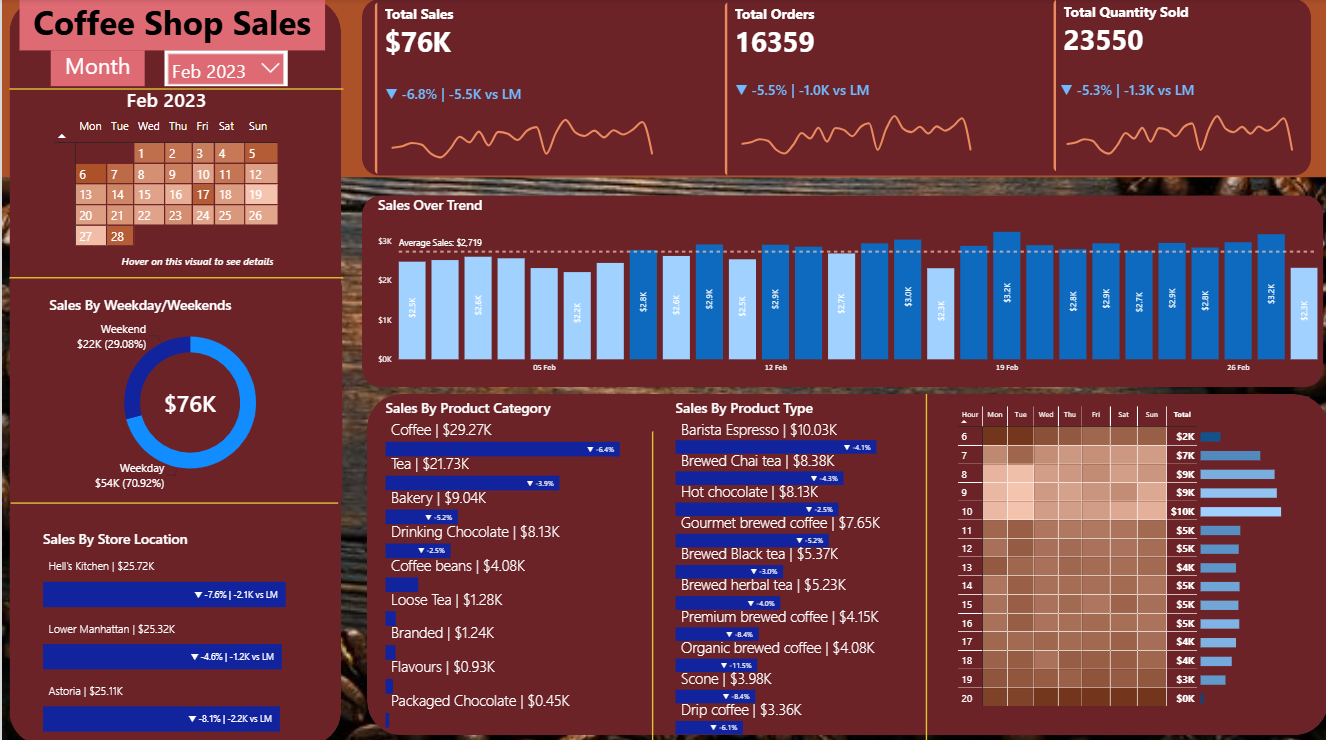

Layout of this report page (visuals, bound fields, positions):
{"tool":"powerbi","page":{"name":"Page 1","canvas":[1920,1080],"ordinal":0},"visuals":[{"type":"shape","box":[0,0,1920,258.5],"z":0},{"type":"shape","box":[43.1,56.9,395.4,1023.1],"z":1000},{"type":"shape","box":[461.2,81.2,1441.2,257.5],"z":2000},{"type":"textbox","box":[24.6,0,370.8,56.9],"z":3000},{"type":"cardVisual","fields":{"Data":["coffee_shop_sales_db coffee shop sales.Total Sales"]},"box":[470.5,81.4,452.8,251.5],"z":4000,"group":"g1"},{"type":"cardVisual","fields":{"Data":["coffee_shop_sales_db coffee shop sales.Total Orders"]},"box":[957.3,81.4,452.4,253.4],"z":4000,"group":"g2"},{"type":"cardVisual","fields":{"Data":["coffee_shop_sales_db coffee shop sales.Total Quantity Sold"]},"box":[1449.5,81.4,452.8,251.5],"z":4000,"group":"g3"},{"type":"slicer","fields":{"Values":["Date Table.Month Year"]},"box":[81.5,81.5,313.8,103.1],"z":4000},{"type":"group","id":"g1","title":"Group 1","box":[465.1,81.4,457.8,253.4],"z":5000},{"type":"group","id":"g2","title":"Group 1","box":[956.7,81.4,453,253.4],"z":6000},{"type":"lineChart","fields":{"Category":["Date Table.Date.Variation.Date Hierarchy.Year","Date Table.Date.Variation.Date Hierarchy.Quarter","Date Table.Date.Variation.Date Hierarchy.Month","Date Table.Date.Variation.Date Hierarchy.Day"],"Y":["coffee_shop_sales_db coffee shop sales.Total Sales"]},"box":[956.7,180.1,427.1,148.4],"z":6000,"group":"g2"},{"type":"lineChart","fields":{"Category":["Date Table.Date.Variation.Date Hierarchy.Year","Date Table.Date.Variation.Date Hierarchy.Quarter","Date Table.Date.Variation.Date Hierarchy.Month","Date Table.Date.Variation.Date Hierarchy.Day"],"Y":["coffee_shop_sales_db coffee shop sales.Total Sales"]},"box":[465.1,185.2,427.8,148.6],"z":6000,"group":"g1"},{"type":"lineChart","fields":{"Category":["Date Table.Date.Variation.Date Hierarchy.Year","Date Table.Date.Variation.Date Hierarchy.Quarter","Date Table.Date.Variation.Date Hierarchy.Month","Date Table.Date.Variation.Date Hierarchy.Day"],"Y":["coffee_shop_sales_db coffee shop sales.Total Sales"]},"box":[1444.1,185.2,427.8,148.6],"z":6000,"group":"g3"},{"type":"group","id":"g3","title":"Group 1","box":[1444.1,81.4,457.8,253.4],"z":7000},{"type":"pivotTable","fields":{"Columns":["Date Table.Day Name"],"Values":["Min(Date Table.Day Number)"],"Rows":["Date Table.Week Number"]},"box":[60,232.3,364.6,250.8],"z":8000},{"type":"cardVisual","fields":{"Data":["Min(Date Table.Month Year)"]},"box":[161.5,198.5,158.5,56.9],"z":9000},{"type":"cardVisual","fields":{"Data":["coffee_shop_sales_db coffee shop sales.Foot Step"]},"box":[161.5,435.4,330.8,47.7],"z":10000},{"type":"shape","box":[49.2,458.5,387.7,49.2],"z":11000},{"type":"shape","box":[44.6,180,386.2,49.2],"z":12000},{"type":"donutChart","title":"Sales By Weekday/Weekends","fields":{"Category":["Date Table.Weekday/Weekends"],"Y":["coffee_shop_sales_db coffee shop sales.Total Sales"]},"box":[44.6,503.1,393.8,313.8],"z":13000},{"type":"shape","box":[43.1,781.5,387.7,49.2],"z":14000},{"type":"cardVisual","fields":{"Data":["coffee_shop_sales_db coffee shop sales.Total Sales"]},"box":[182,660,132,88],"z":15000},{"type":"barChart","box":[872.3,624.6,683.1,360],"z":16000}]}

Visuals, with their boxes in screenshot pixels (x1, y1, x2, y2), scaled from the page's 1920x1080 canvas onto the 1326x740 screenshot:
shape: select_region(0, 0, 1325, 177)
shape: select_region(30, 39, 303, 739)
shape: select_region(319, 56, 1314, 232)
textbox: select_region(17, 0, 273, 39)
cardVisual - coffee_shop_sales_db coffee shop sales.Total Sales: select_region(325, 56, 638, 228)
cardVisual - coffee_shop_sales_db coffee shop sales.Total Orders: select_region(661, 56, 974, 229)
cardVisual - coffee_shop_sales_db coffee shop sales.Total Quantity Sold: select_region(1001, 56, 1314, 228)
slicer - Date Table.Month Year: select_region(56, 56, 273, 126)
"Group 1" group: select_region(321, 56, 637, 229)
"Group 1" group: select_region(661, 56, 974, 229)
lineChart - Date Table.Date.Variation.Date Hierarchy.Year x Date Table.Date.Variation.Date Hierarchy.Quarter: select_region(661, 123, 956, 225)
lineChart - Date Table.Date.Variation.Date Hierarchy.Year x Date Table.Date.Variation.Date Hierarchy.Quarter: select_region(321, 127, 617, 229)
lineChart - Date Table.Date.Variation.Date Hierarchy.Year x Date Table.Date.Variation.Date Hierarchy.Quarter: select_region(997, 127, 1293, 229)
"Group 1" group: select_region(997, 56, 1313, 229)
pivotTable - Date Table.Day Name x Min(Date Table.Day Number): select_region(41, 159, 293, 331)
cardVisual - Min(Date Table.Month Year): select_region(112, 136, 221, 175)
cardVisual - coffee_shop_sales_db coffee shop sales.Foot Step: select_region(112, 298, 340, 331)
shape: select_region(34, 314, 302, 348)
shape: select_region(31, 123, 298, 157)
"Sales By Weekday/Weekends" donutChart: select_region(31, 345, 303, 560)
shape: select_region(30, 535, 298, 569)
cardVisual - coffee_shop_sales_db coffee shop sales.Total Sales: select_region(126, 452, 217, 513)
barChart: select_region(602, 428, 1074, 675)
